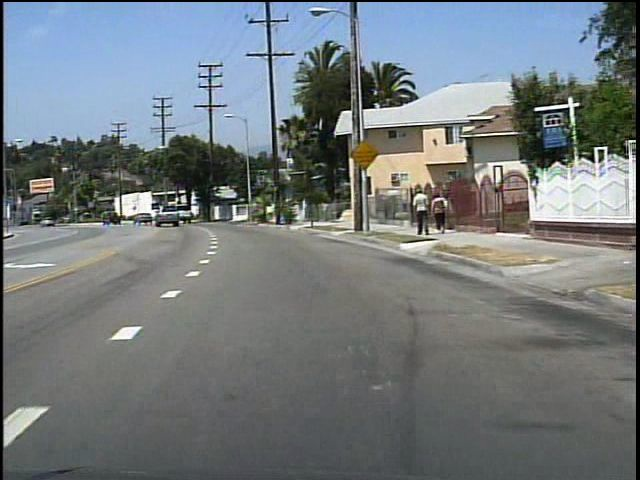person: (409, 185, 431, 239), (428, 190, 450, 233)
